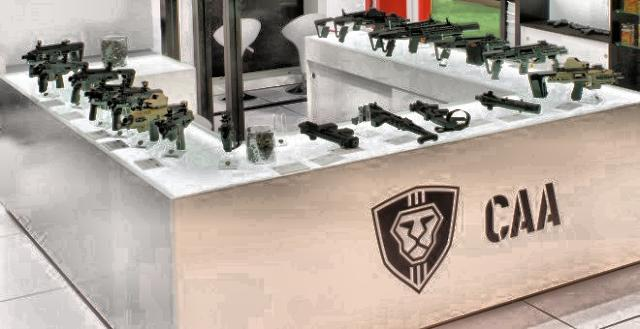pistol: (474, 89, 540, 115)
